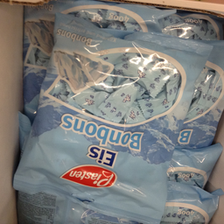candy: (27, 19, 203, 214)
